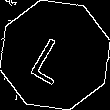L_NE: (29, 26, 81, 84)
